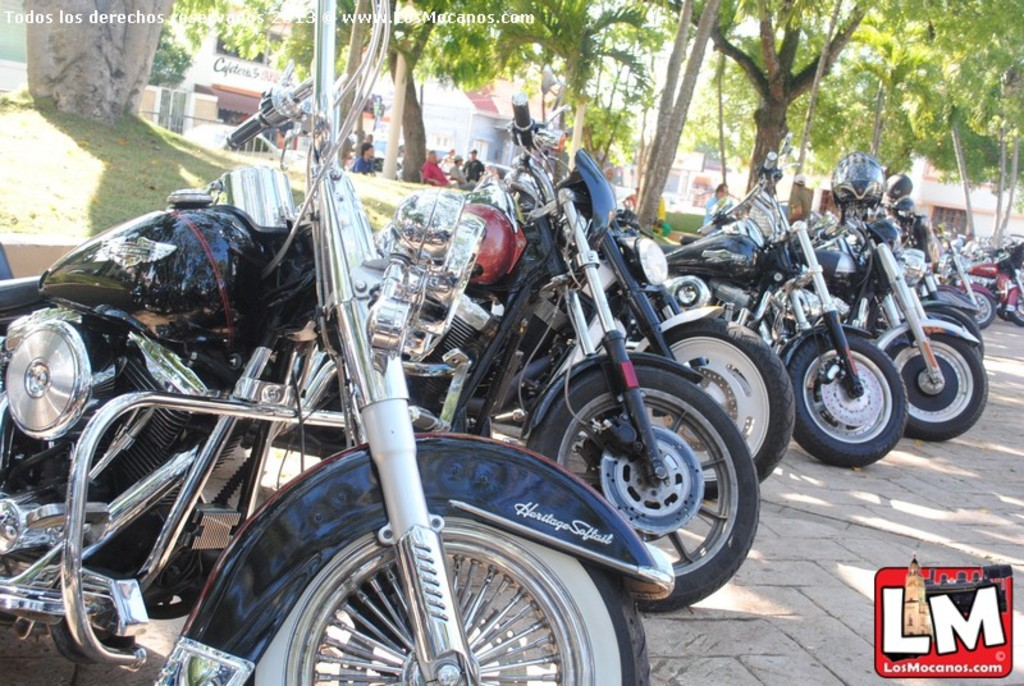Motorcycle: (0, 0, 673, 684), (272, 65, 759, 611), (458, 209, 797, 504), (665, 131, 911, 472), (803, 203, 988, 437), (894, 249, 986, 358), (933, 226, 999, 330), (968, 239, 1022, 326)
